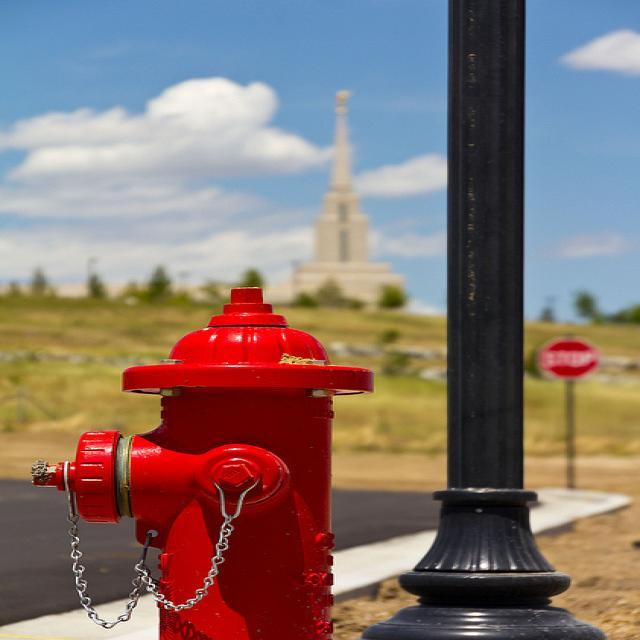fire_hydrant: (34, 277, 376, 634)
